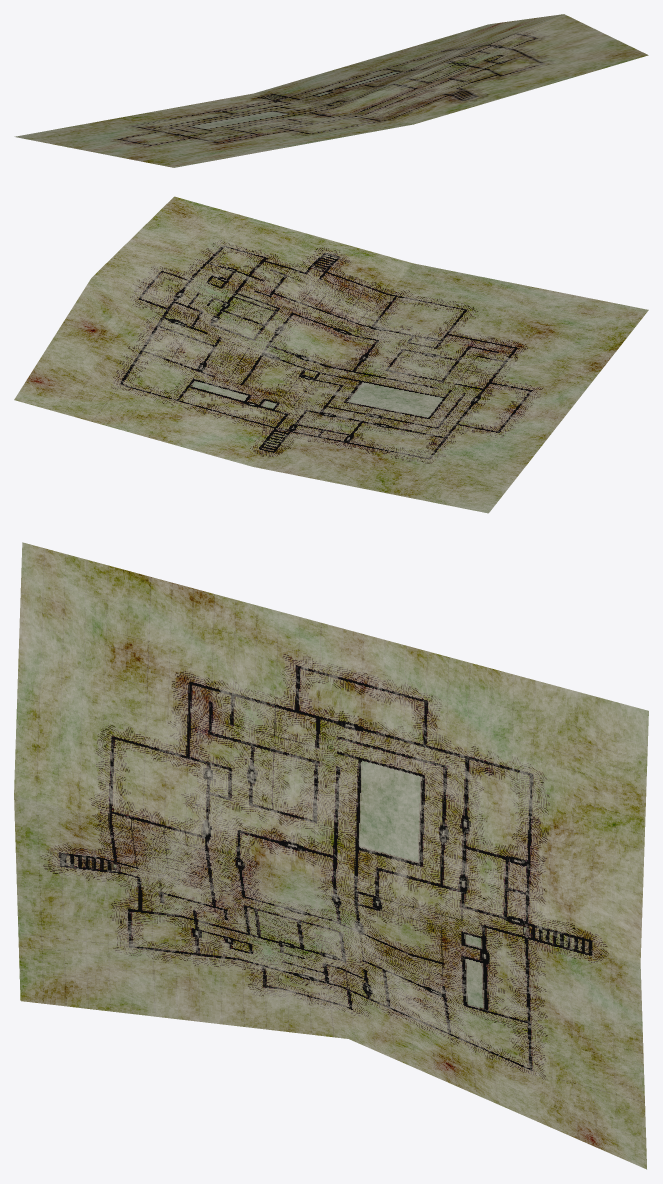
The model's file is map.glb.
3 renders of one model, top to bottom at view 1: azimuth 30°, elevation 25°; view 2: azimuth 150°, elevation 25°; view 3: azimuth 270°, elevation 25°, orthographic. The views are drawn at different scales.
Parts seen in each view (by area): view 1: Cube.001; view 2: Cube.001; view 3: Cube.001.
Boxes of the visible parts, x1=… form: Cube.001: x1=14, y1=14, x2=648, y2=167; Cube.001: x1=14, y1=196, x2=648, y2=513; Cube.001: x1=14, y1=542, x2=648, y2=1169.
Bounding box in the file's own units: 1.23 × 0.2457 × 0.7286.
Materials: 1 (1 with a texture image).
